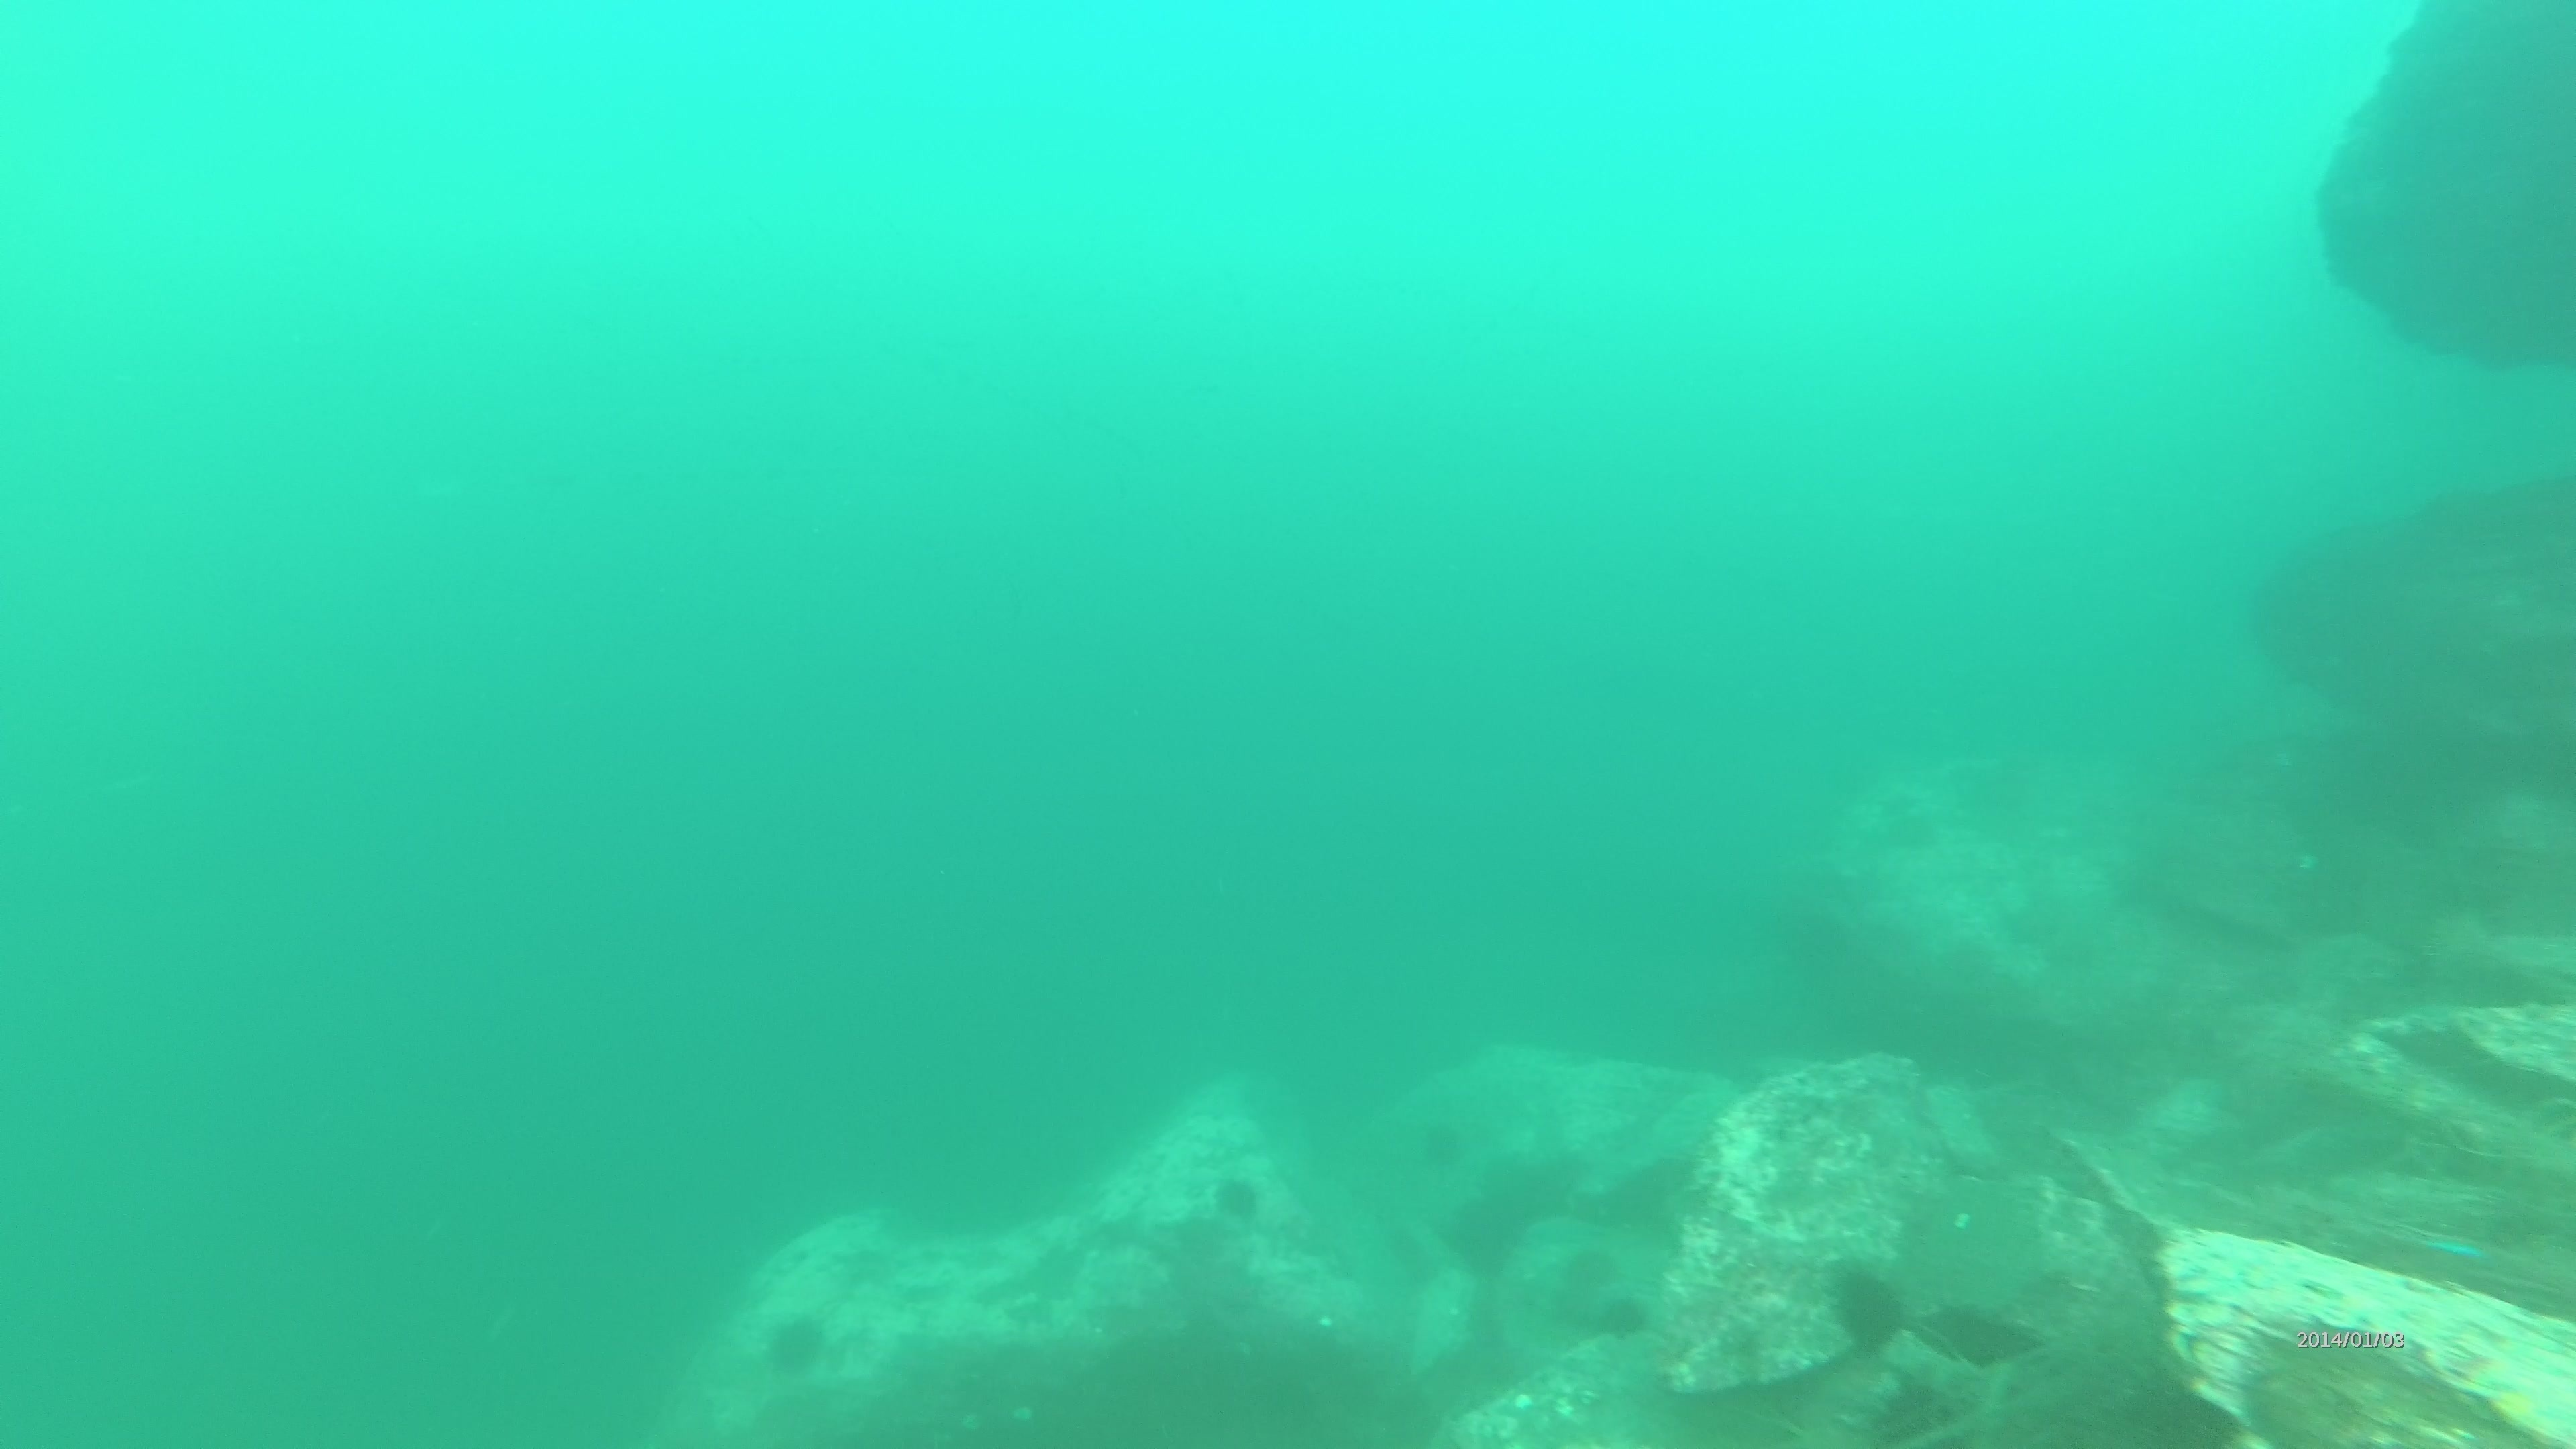echinus: (1821, 1256, 1914, 1359), (1923, 1292, 2040, 1371), (757, 1307, 833, 1382), (1207, 1168, 1269, 1230), (1426, 1115, 1465, 1162), (1576, 1249, 1624, 1284), (1603, 1299, 1645, 1338)
